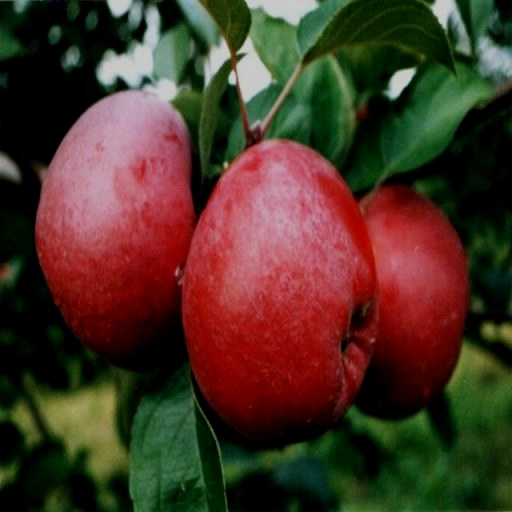fruit: (182, 140, 376, 445), (36, 92, 194, 368), (358, 185, 467, 417)
